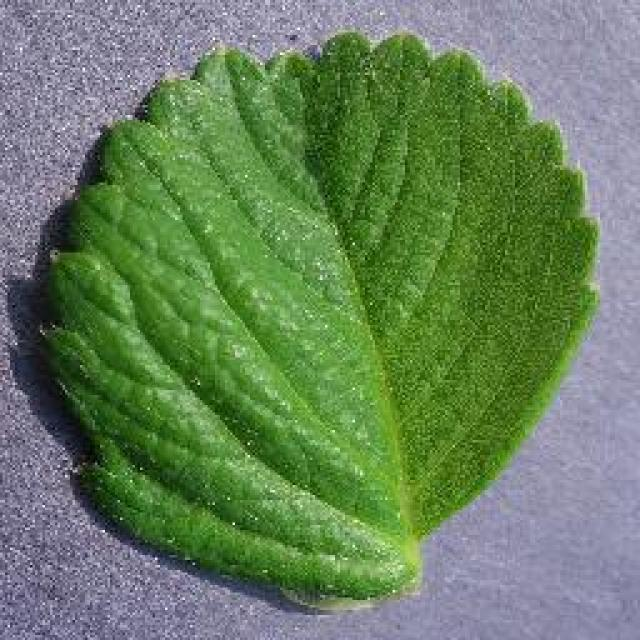Straw_healthy: (70, 71, 562, 538)
